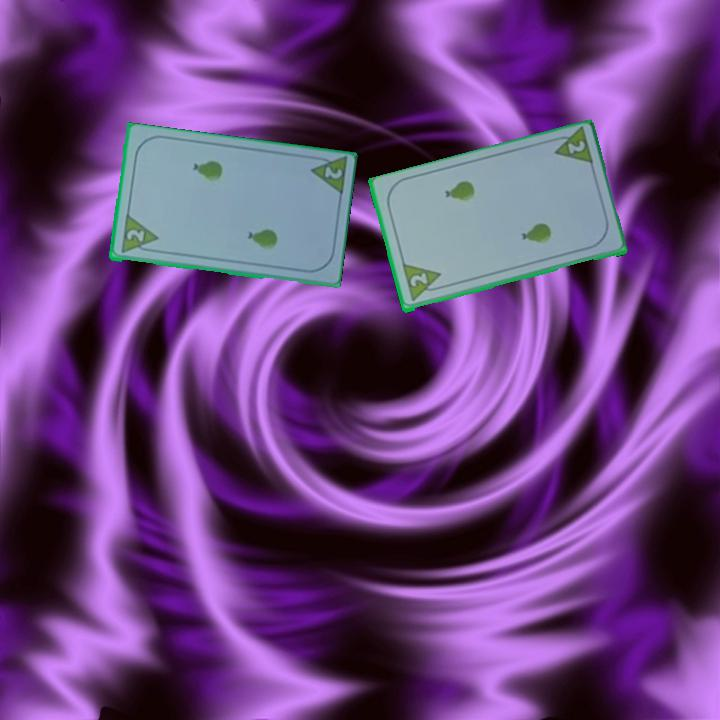2p: (547, 125, 596, 169), (306, 153, 349, 200), (117, 213, 160, 256), (406, 270, 430, 290)
